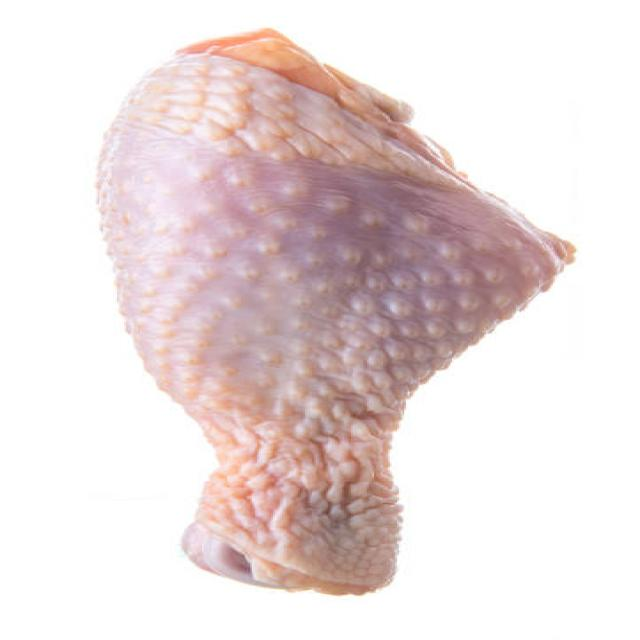chicken thigh: (80, 26, 585, 596)
